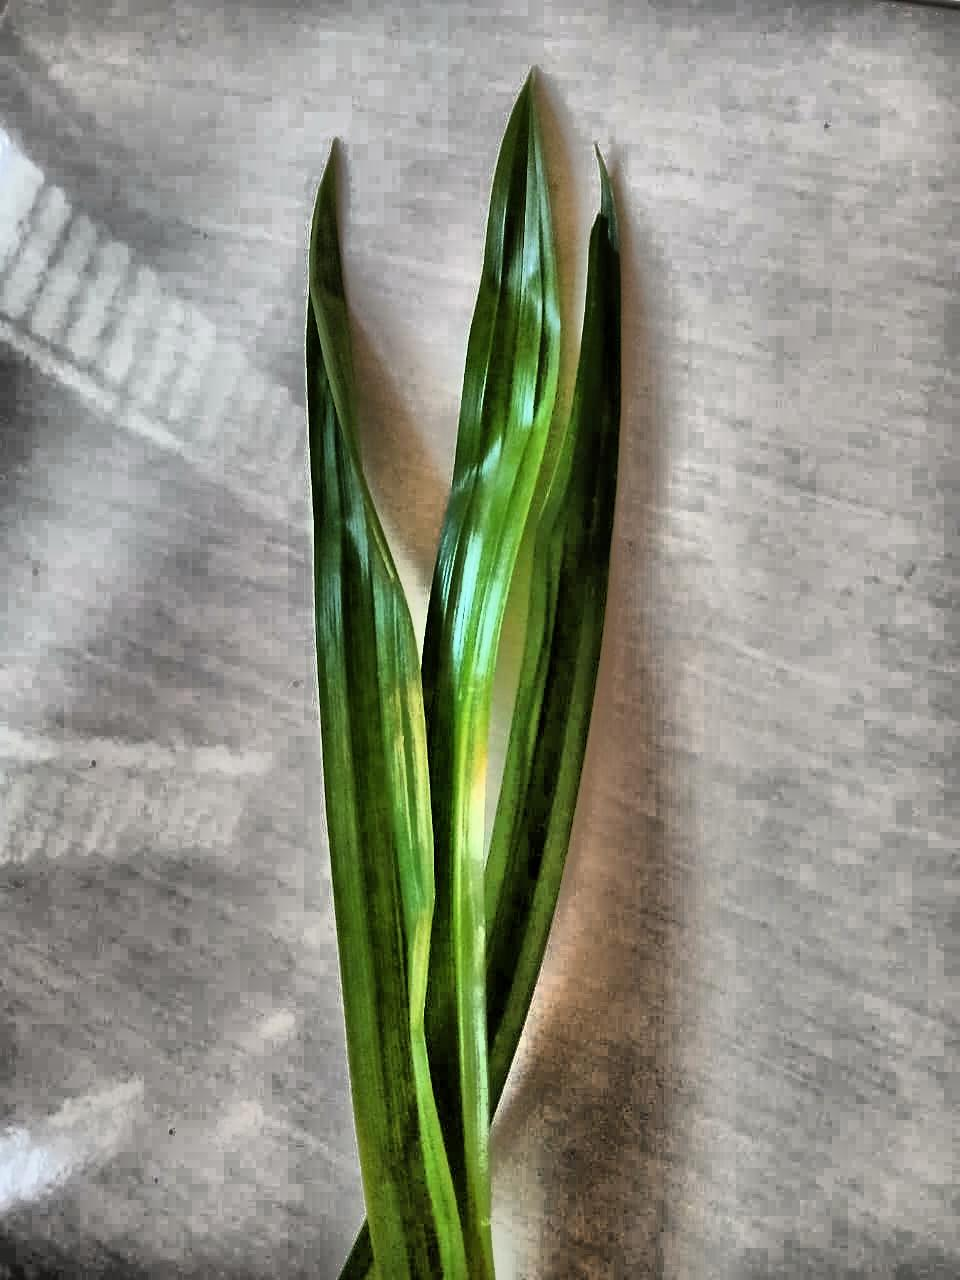daun pandan: (305, 75, 621, 1279)
